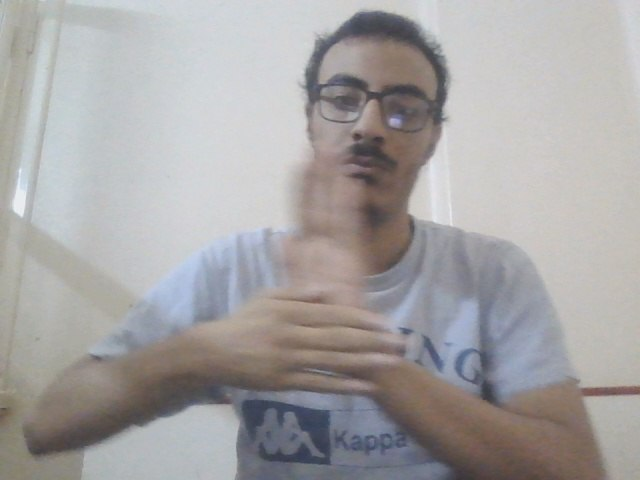Movie: (217, 142, 409, 406)
